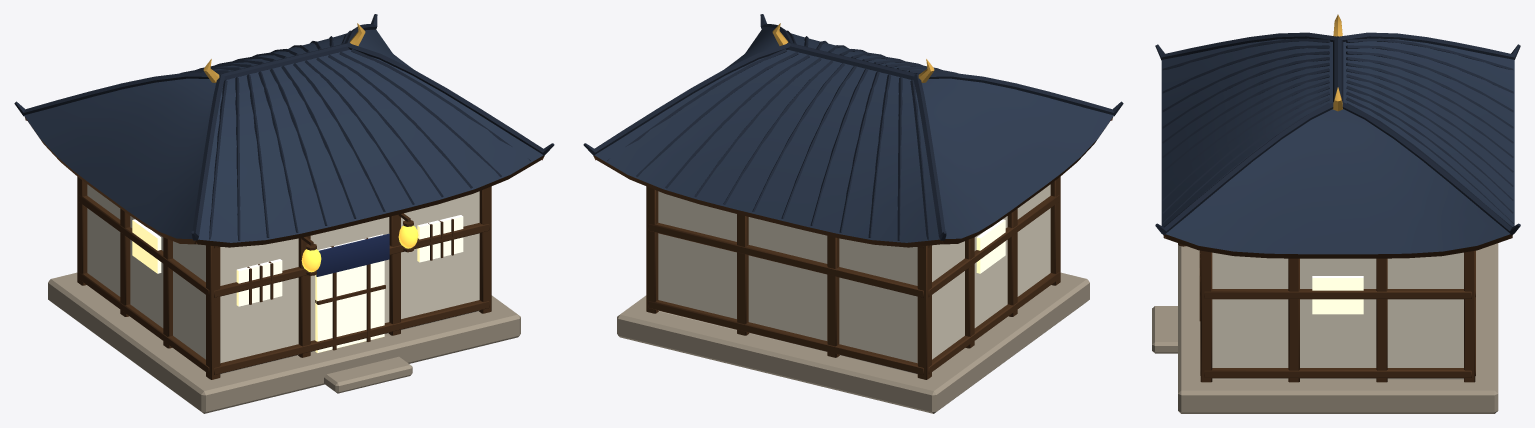
The model's file is house.glb.
3 renders of one model, left to right at view 1: azimuth 30°, elevation 25°; view 2: azimuth 150°, elevation 25°; view 3: azimuth 270°, elevation 25°, orthographic. The views are drawn at different scales.
Visible parts, largest first — view 1: house; view 2: house; view 3: house.
Boxes of the visible parts, x1,y1,x2,y2 form: house: (14, 14, 554, 413); house: (583, 14, 1123, 413); house: (1152, 14, 1520, 413).
Bounding box in the file's own units: 7.49 × 5.5 × 6.45.
